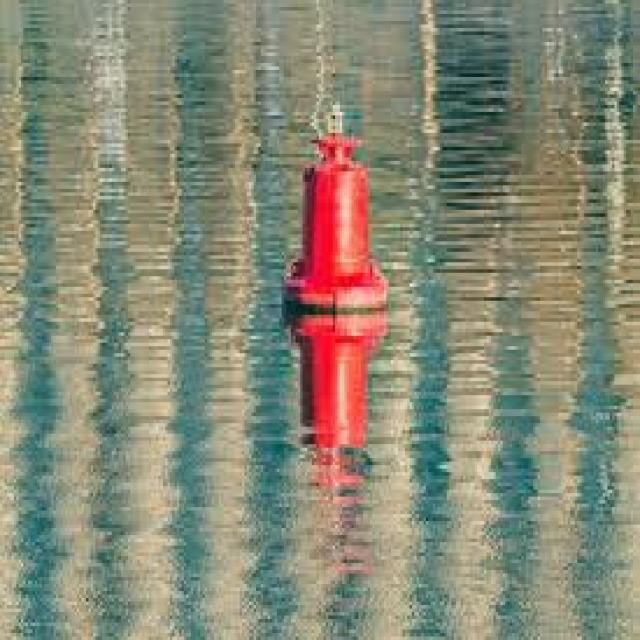buoy: (273, 78, 396, 329)
